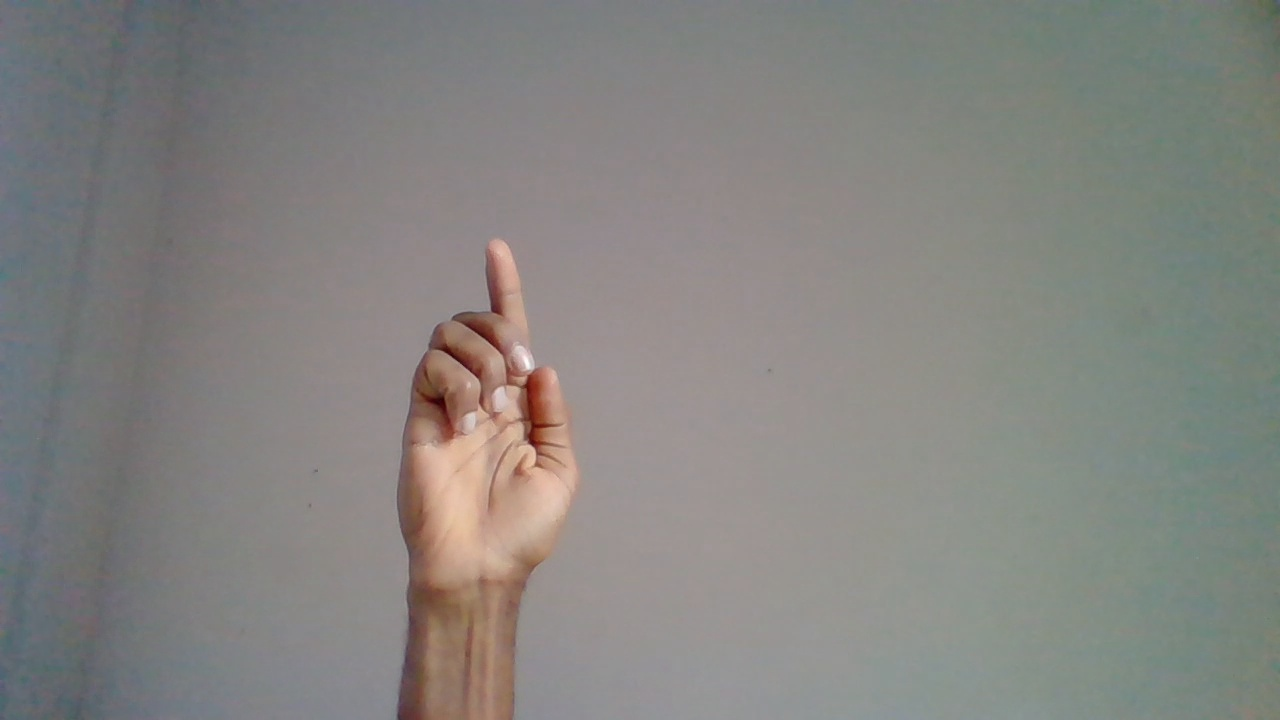qe: (394, 239, 585, 653)
